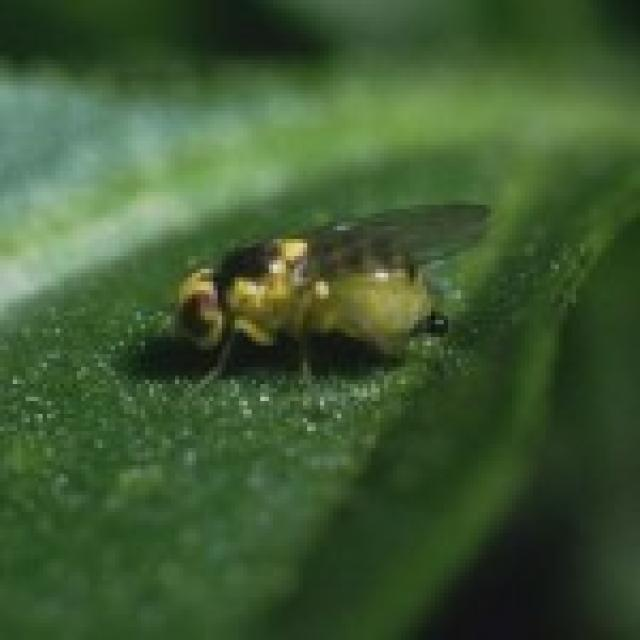Serpentine leafminer: (176, 201, 500, 395)
